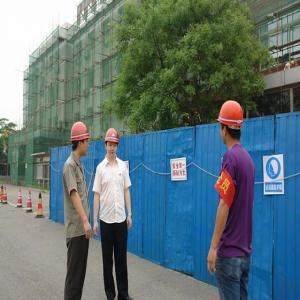red: (218, 97, 246, 151), (70, 120, 91, 161), (103, 127, 121, 162)
